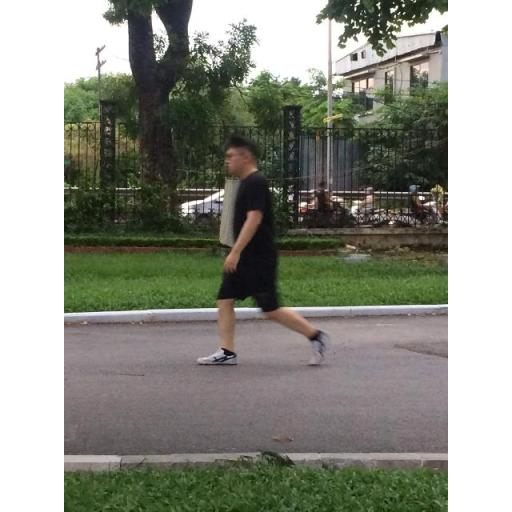Running: (194, 132, 336, 373)
